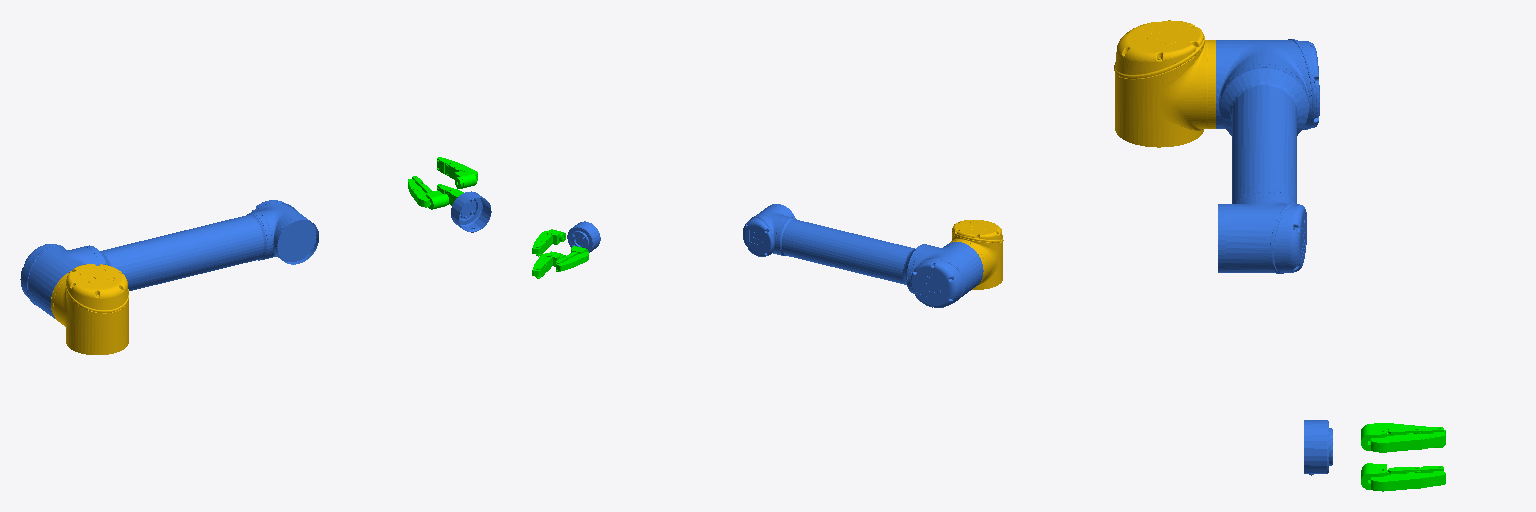
The robot description file, URDF, robot "ur10e+3fGripper":
<?xml version="1.0" ?>
<robot name="ur10e+3fGripper">
	<link name="ur10e">
		<inertial>
			<origin rpy="0.00000 -0.00000 0" xyz="0 0 0"/>
			<mass value="0.00000"/>
			<inertia ixx="0.00000" ixy="0" ixz="0" iyy="0.00000" iyz="0" izz="0.00000"/>
		</inertial>
		<visual>
			<origin rpy="0.00000 0.00000 -1.64061" xyz="0.00000 0.00000 0.00000"/>
			<geometry>
				<mesh filename="environments/PyBullet/environment/stl_files/ur10e/visual/base.stl" scale="1.00000 1.00000 1.00000"/>
			</geometry>
			<material name="mat_-1_0">
				<color rgba="0.23438 0.72656 0.32812 1.00000" />
			</material>
		</visual>
		<collision>
			<origin rpy="0.00000 0.00000 -1.64061" xyz="0.00000 0.00000 0.00000"/>
			<geometry>
				<mesh filename="environments/PyBullet/environment/stl_files/ur10e/collision/base.stl" scale="1.00000 1.00000 1.00000"/>
			</geometry>
		</collision>
	</link>
	
	<link name="base_link">
		<inertial>
			<origin rpy="0.00000 -0.00000 0.00000" xyz="0.00000 0.00000 0.00000"/>
			<mass value="7.36900"/>
			<inertia ixx="0.08131" ixy="0" ixz="0" iyy="0.07580" iyz="0" izz="0.07434"/>
		</inertial>
		<visual>
			<origin rpy="0.00000 -0.00000 0.00000" xyz="0.00000 0.00000 0.00000"/>
			<geometry>
				<mesh filename="environments/PyBullet/environment/stl_files/ur10e/visual/shoulder.stl" scale="1.00000 1.00000 1.00000"/>
			</geometry>
			<material name="mat_1_0">
				<color rgba="0.95312 0.75781 0.05078 1.00000" />
			</material>
		</visual>
		<collision>
			<origin rpy="0.00000 -0.00000 0.00000" xyz="0.00000 0.00000 0.00000"/>
			<geometry>
				<mesh filename="environments/PyBullet/environment/stl_files/ur10e/collision/shoulder.stl" scale="1.00000 1.00000 1.00000"/>
			</geometry>
		</collision>
	</link>
	
	<link name="shoulder_link">
		<inertial>
			<origin rpy="0.00000 -0.00000 0.00000" xyz="0.00000 0.00000 0.00000"/>
			<mass value="13.05100"/>
			<inertia ixx="0.82752" ixy="0" ixz="0" iyy="0.81574" iyz="0" izz="0.13368"/>
		</inertial>
		<visual>
			<origin rpy="0.00000 -0.00000 0.00000" xyz="0.00000 0.00000 0.00000"/>
			<geometry>
				<mesh filename="environments/PyBullet/environment/stl_files/ur10e/visual/upperarm.stl" scale="1.00000 1.00000 1.00000"/>
			</geometry>
			<material name="mat_3_0">
				<color rgba="0.28125 0.51953 0.92578 1.00000" />
			</material>
		</visual>
		<collision>
			<origin rpy="0.00000 -0.00000 0.00000" xyz="0.00000 0.00000 0.00000"/>
			<geometry>
				<mesh filename="environments/PyBullet/environment/stl_files/ur10e/collision/upperarm.stl" scale="1.00000 1.00000 1.00000"/>
			</geometry>
		</collision>
	</link>
	
	<link name="elbow_link">
		<inertial>
			<origin rpy="0.00000 -0.00000 0.00000" xyz="0.00000 0.00000 0.00000"/>
			<mass value="3.98900"/>
			<inertia ixx="0.20671" ixy="0" ixz="0" iyy="0.20550" iyz="0" izz="0.02780"/>
		</inertial>
		<visual>
			<origin rpy="0.00000 -0.00000 0.00000" xyz="0.00000 0.00000 0.00000"/>
			<geometry>
				<mesh filename="environments/PyBullet/environment/stl_files/ur10e/visual/forearm.stl" scale="1.00000 1.00000 1.00000"/>
			</geometry>
			<material name="mat_5_0">
				<color rgba="0.95312 0.75781 0.05078 1.00000" />
			</material>
		</visual>
		<collision>
			<origin rpy="0.00000 -0.00000 0.00000" xyz="0.00000 0.00000 0.00000"/>
			<geometry>
				<mesh filename="environments/PyBullet/environment/stl_files/ur10e/collision/forearm.stl" scale="1.00000 1.00000 1.00000"/>
			</geometry>
		</collision>
	</link>
	
	<link name="wrist_1_link">
		<inertial>
			<origin rpy="0.00000 -1.57080 1.57080" xyz="0.00000 0.00000 0.00000"/>
			<mass value="2.10000"/>
			<inertia ixx="0.01224" ixy="0" ixz="0" iyy="0.01425" iyz="0" izz="0.01285"/>
		</inertial>
		<visual>
			<origin rpy="0.00000 -0.00000 0.00000" xyz="0.00000 0.00000 0.00000"/>
			<geometry>
				<mesh filename="environments/PyBullet/environment/stl_files/ur10e/visual/wrist1.stl" scale="1.00000 1.00000 1.00000"/>
			</geometry>
			<material name="mat_7_0">
				<color rgba="0.28125 0.51953 0.92578 1.00000" />
			</material>
		</visual>
		<collision>
			<origin rpy="0.00000 -0.00000 0.00000" xyz="0.00000 0.00000 0.00000"/>
			<geometry>
				<mesh filename="environments/PyBullet/environment/stl_files/ur10e/collision/wrist1.stl" scale="1.00000 1.00000 1.00000"/>
			</geometry>
		</collision>
	</link>
	
	<link name="wrist_2_link">
		<inertial>
			<origin rpy="0.00000 -1.57080 1.57080" xyz="0.00000 0.00000 0.00000"/>
			<mass value="1.98000"/>
			<inertia ixx="0.01218" ixy="0" ixz="0" iyy="0.01252" iyz="0" izz="0.01057"/>
		</inertial>
		<visual>
			<origin rpy="0.00000 -0.00000 0.00000" xyz="0.00000 0.00000 0.00000"/>
			<geometry>
				<mesh filename="environments/PyBullet/environment/stl_files/ur10e/visual/wrist2.stl" scale="1.00000 1.00000 1.00000"/>
			</geometry>
			<material name="mat_9_0">
				<color rgba="0.95312 0.75781 0.05078 1.00000" />
			</material>
		</visual>
		<collision>
			<origin rpy="0.00000 -0.00000 0.00000" xyz="0.00000 0.00000 0.00000"/>
			<geometry>
				<mesh filename="environments/PyBullet/environment/stl_files/ur10e/collision/wrist2.stl" scale="1.00000 1.00000 1.00000"/>
			</geometry>
		</collision>
	</link>
	
	<link name="wrist_3_link">
		<inertial>
			<origin rpy="0.00000 -1.57080 1.57080" xyz="0.00000 0.00000 0.00000"/>
			<mass value="0.18790"/>
			<inertia ixx="0.00073" ixy="0" ixz="0" iyy="0.00077" iyz="0" izz="0.00096"/>
		</inertial>
		<visual>
			<origin rpy="0.00000 -0.00000 0.00000" xyz="0.00000 0.00000 0.00000"/>
			<geometry>
				<mesh filename="environments/PyBullet/environment/stl_files/ur10e/visual/wrist3.stl" scale="1.00000 1.00000 1.00000"/>
			</geometry>
			<material name="mat_11_0">
				<color rgba="0.28125 0.51953 0.92578 1.00000" />
			</material>
		</visual>
		<collision>
			<origin rpy="0.00000 -0.00000 0.00000" xyz="0.00000 0.00000 0.00000"/>
			<geometry>
				<mesh filename="environments/PyBullet/environment/stl_files/ur10e/collision/wrist3.stl" scale="1.00000 1.00000 1.00000"/>
			</geometry>
		</collision>
	</link>
	<link name="tool0">
		<inertial>
			<origin rpy="0 0.00000 0.00000" xyz="0.00000 0 0.00000"/>
			<mass value="0.00000"/>
			<inertia ixx="0.00000" ixy="0" ixz="0" iyy="0.00000" iyz="0" izz="0.00000"/>
		</inertial>
	</link>

	<!-- Robot joints -->

	<joint name="shoulder_pan_joint" type="continuous">
		<parent link="ur10e"/>
		<child link="base_link"/>
		<dynamics damping="1.0" friction="0.0001"/>
		<origin rpy="0.00000 -0.00000 0.00000" xyz="0.00000 0.00000 0.18100"/>
		<axis xyz="0.00000 0.00000 1.00000"/>
		<limit effort="330" lower="-6.28318530718" upper="6.28318530718" velocity="2.0943951"/>
	</joint>

	<joint name="shoulder_lift_joint" type="continuous">
		<parent link="base_link"/>
		<child link="shoulder_link"/>
		<dynamics damping="1.0" friction="0.0001"/>
		<origin rpy="0 1.5708 0" xyz="0.00000 0.17600 0.00000"/>
		<axis xyz="0.00000 1.00000 0.00000"/>
		<limit effort="330" lower="-6.28318530718" upper="6.28318530718" velocity="2.0943951"/>
	</joint>

	<joint name="elbow_joint" type="continuous">
		<parent link="shoulder_link"/>
		<child link="elbow_link"/>
		<dynamics damping="1.0" friction="0.0001"/>
		<origin rpy="0.00000 -0.00000 0.00000" xyz="0.00000 -0.13700 0.61300"/>
		<axis xyz="0.00000 1.00000 0.00000"/>
		<limit effort="150" lower="-3.1416" upper="3.1416" velocity="3.14159265359"/>
	</joint>

	<joint name="wrist_1_joint" type="continuous">
		<parent link="elbow_link"/>
		<child link="wrist_1_link"/>
		<dynamics damping="1.0" friction="0.0001"/>
		<origin rpy="0.00000 1.5708 0.00000" xyz="0.00000 0.00000 0.57100"/>
		<axis xyz="0.00000 1.00000 0.00000"/>
		<limit effort="56" lower="-6.28318530718" upper="6.28318530718" velocity="3.14159265359"/>
	</joint>

	<joint name="wrist_2_joint" type="continuous">
		<parent link="wrist_1_link"/>
		<child link="wrist_2_link"/>
		<dynamics damping="1.0" friction="0.0001"/>
		<origin rpy="0.00000 -0.00000 0.00000" xyz="0.00000 0.13500 0.00000"/>
		<axis xyz="0.00000 0.00000 1.00000"/>
		<limit effort="56" lower="-6.28318530718" upper="6.28318530718" velocity="3.14159265359"/>
	</joint>

	<joint name="wrist_3_joint" type="continuous">
		<parent link="wrist_2_link"/>
		<child link="wrist_3_link"/>
		<dynamics damping="1.0" friction="0.0001"/>
		<origin rpy="0.00000 -0.00000 0.00000" xyz="0.00000 0.00000 0.12000"/>
		<axis xyz="0.00000 1.00000 0.00000"/>
		<limit effort="56" lower="-6.28318530718" upper="6.28318530718" velocity="3.14159265359"/>
	</joint>

	<joint name="jointfix_13_11" type="fixed">
		<parent link="wrist_3_link"/>
		<child link="tool0"/>
		<dynamics damping="1.0" friction="0.0001"/>
		<origin rpy="0 0 0" xyz="0 0.117 0"/>
	</joint>

	<!-- Gripper -->
	<link name="finger_1_link_0">
		<visual>
		  <origin rpy="0 0 0" xyz="0.020 0 0"/>
		  <geometry>
			<mesh filename="environments/PyBullet/environment/stl_files/robotiq_3f/visual/link_0.stl"/>
		  </geometry>
		  <material name="green">
			<color rgba="0 1 0 1"/>
		  </material>
		</visual>
		<collision>
		  <origin rpy="0 3.1416 -1.57" xyz="-0.0455 0.0414 0.036"/>
		  <geometry>
			<mesh filename="environments/PyBullet/environment/stl_files/robotiq_3f/collision/link_0.stl"/>
		  </geometry>
		  <material name="yellow">
			<color rgba="0 1 1 1"/>
		  </material>
		</collision>
		<inertial>
		  <origin rpy="0 0 0" xyz="0 0 0"/>
		  <mass value="0.05"/>
		  <inertia ixx="0.01" ixy="-0.00002" ixz="0.00001" iyy="0.0008" iyz="0" izz="0.001"/>
		</inertial>
	  </link>
	  <link name="finger_1_link_1">
		<visual>
		  <origin rpy="0 0 -0.52" xyz="0.050 -.028 0"/>
		  <geometry>
			<mesh filename="environments/PyBullet/environment/stl_files/robotiq_3f/visual/link_1.stl"/>
		  </geometry>
		  <material name="green"/>
		</visual>
		<collision>
		  <origin rpy="0 0 -0.52" xyz="0.050 -.028 0"/>
		  <geometry>
			<mesh filename="environments/PyBullet/environment/stl_files/robotiq_3f/collision/link_1.stl"/>
		  </geometry>
		  <material name="yellow"/>
		</collision>
		<inertial>
		  <origin rpy="0 0 0" xyz="0 0 0"/>
		  <mass value="0.15"/>
		  <inertia ixx="0.001859" ixy="-0.000376" ixz="0.000028" iyy="0.012756" iyz="0" izz="0.0024"/>
		</inertial>
	  </link>
	  <link name="finger_1_link_2">
		<!--
				NOTE: This link has an offset in the z-direction based on the models that were
				used to generate grap-it poses.  With the offset below the model appears visually
				correct, but it is suspect.
				-->
		<visual>
		  <origin rpy="0 0 0" xyz="0.039 0 0.0075"/>
		  <geometry>
			<mesh filename="environments/PyBullet/environment/stl_files/robotiq_3f/visual/link_2.stl"/>
		  </geometry>
		  <material name="green"/>
		</visual>
		<collision>
		  <origin rpy="0 0 0" xyz="0.039 0 0.0075"/>
		  <geometry>
			<mesh filename="environments/PyBullet/environment/stl_files/robotiq_3f/collision/link_2.stl"/>
		  </geometry>
		  <material name="yellow"/>
		</collision>
		<inertial>
		  <origin rpy="0 0 0" xyz="0 0 0"/>
		  <mass value="0.15"/>
		  <inertia ixx="0.001859" ixy="-0.000376" ixz="0.000028" iyy="0.012756" iyz="0" izz="0.0024"/>
		</inertial>
	  </link>
	  <link name="finger_1_link_3">
		<visual>
		  <origin rpy="0 0 0.52" xyz="0 0 0"/>
		  <geometry>
			<mesh filename="environments/PyBullet/environment/stl_files/robotiq_3f/visual/link_3.stl"/>
		  </geometry>
		  <material name="green"/>
		</visual>
		<collision>
      <origin xyz="0.0180036 0.00913251 0" rpy="0 0 0.5202588"/>
      <geometry>
        <box size="0.035 0.018 0.032"/>
      </geometry>
    </collision>
		<inertial>
		  <origin rpy="0 0 0" xyz="0 0 0"/>
		  <mass value="0.05"/>
		  <inertia ixx="0.001239" ixy="-0.000251" ixz="0.000019" iyy="0.00085" iyz="0" izz="0.001632"/>
		</inertial>
	  </link>
	  

	  <link name="finger_2_link_0">
		<visual>
		  <origin rpy="0 0 0" xyz="0.020 0 0"/>
		  <geometry>
			<mesh filename="environments/PyBullet/environment/stl_files/robotiq_3f/visual/link_0.stl"/>
		  </geometry>
		  <material name="green">
			<color rgba="0 1 0 1"/>
		  </material>
		</visual>
		<collision>
		  <origin rpy="0 3.1416 -1.57" xyz="-0.0455 0.0414 0.036"/>
		  <geometry>
			<mesh filename="environments/PyBullet/environment/stl_files/robotiq_3f/collision/link_0.stl"/>
		  </geometry>
		  <material name="yellow">
			<color rgba="0 1 1 1"/>
		  </material>
		</collision>
		<inertial>
		  <origin rpy="0 0 0" xyz="0 0 0"/>
		  <mass value="0.05"/>
		  <inertia ixx="0.01" ixy="-0.00002" ixz="0.00001" iyy="0.0008" iyz="0" izz="0.001"/>
		</inertial>
	  </link>
	  <link name="finger_2_link_1">
		<visual>
		  <origin rpy="0 0 -0.52" xyz="0.050 -.028 0"/>
		  <geometry>
			<mesh filename="environments/PyBullet/environment/stl_files/robotiq_3f/visual/link_1.stl"/>
		  </geometry>
		  <material name="green"/>
		</visual>
		<collision>
		  <origin rpy="0 0 -0.52" xyz="0.050 -.028 0"/>
		  <geometry>
			<mesh filename="environments/PyBullet/environment/stl_files/robotiq_3f/collision/link_1.stl"/>
		  </geometry>
		  <material name="yellow"/>
		</collision>
		<inertial>
		  <origin rpy="0 0 0" xyz="0 0 0"/>
		  <mass value="0.15"/>
		  <inertia ixx="0.001859" ixy="-0.000376" ixz="0.000028" iyy="0.012756" iyz="0" izz="0.0024"/>
		</inertial>
	  </link>
	  <link name="finger_2_link_2">
		<!--
				NOTE: This link has an offset in the z-direction based on the models that were
				used to generate grap-it poses.  With the offset below the model appears visually
				correct, but it is suspect.
				-->
		<visual>
		  <origin rpy="0 0 0" xyz="0.039 0 0.0075"/>
		  <geometry>
			<mesh filename="environments/PyBullet/environment/stl_files/robotiq_3f/visual/link_2.stl"/>
		  </geometry>
		  <material name="green"/>
		</visual>
		<collision>
		  <origin rpy="0 0 0" xyz="0.039 0 0.0075"/>
		  <geometry>
			<mesh filename="environments/PyBullet/environment/stl_files/robotiq_3f/collision/link_2.stl"/>
		  </geometry>
		  <material name="yellow"/>
		</collision>
		<inertial>
		  <origin rpy="0 0 0" xyz="0 0 0"/>
		  <mass value="0.15"/>
		  <inertia ixx="0.001859" ixy="-0.000376" ixz="0.000028" iyy="0.012756" iyz="0" izz="0.0024"/>
		</inertial>
	  </link>
	  <link name="finger_2_link_3">
		<visual>
		  <origin rpy="0 0 0.52" xyz="0 0 0"/>
		  <geometry>
			<mesh filename="environments/PyBullet/environment/stl_files/robotiq_3f/visual/link_3.stl"/>
		  </geometry>
		  <material name="green"/>
		</visual>
		<collision>
      <origin xyz="0.0180036 0.00913251 0" rpy="0 0 0.5202588"/>
      <geometry>
        <box size="0.035 0.018 0.032"/>
      </geometry>
    </collision>
		<inertial>
		  <origin rpy="0 0 0" xyz="0 0 0"/>
		  <mass value="0.05"/>
		  <inertia ixx="0.001239" ixy="-0.000251" ixz="0.000019" iyy="0.00085" iyz="0" izz="0.001632"/>
		</inertial>
	  </link>
	  

	  <link name="finger_middle_link_0">
		<visual>
		  <origin rpy="0 0 0" xyz="0.020 0 0"/>
		  <geometry>
			<mesh filename="environments/PyBullet/environment/stl_files/robotiq_3f/visual/link_0.stl"/>
		  </geometry>
		  <material name="green">
			<color rgba="0 1 0 1"/>
		  </material>
		</visual>
		<collision>
		  <origin rpy="0 3.1416 -1.57" xyz="-0.0455 0.0414 0.036"/>
		  <geometry>
			<mesh filename="environments/PyBullet/environment/stl_files/robotiq_3f/collision/link_0.stl"/>
		  </geometry>
		  <material name="yellow">
			<color rgba="0 1 1 1"/>
		  </material>
		</collision>
		<inertial>
		  <origin rpy="0 0 0" xyz="0 0 0"/>
		  <mass value="0.05"/>
		  <inertia ixx="0.01" ixy="-0.00002" ixz="0.00001" iyy="0.0008" iyz="0" izz="0.001"/>
		</inertial>
	  </link>
	  <link name="finger_middle_link_1">
		<visual>
		  <origin rpy="0 0 -0.52" xyz="0.050 -.028 0"/>
		  <geometry>
			<mesh filename="environments/PyBullet/environment/stl_files/robotiq_3f/visual/link_1.stl"/>
		  </geometry>
		  <material name="green"/>
		</visual>
		<collision>
		  <origin rpy="0 0 -0.52" xyz="0.050 -.028 0"/>
		  <geometry>
			<mesh filename="environments/PyBullet/environment/stl_files/robotiq_3f/collision/link_1.stl"/>
		  </geometry>
		  <material name="yellow"/>
		</collision>
		<inertial>
		  <origin rpy="0 0 0" xyz="0 0 0"/>
		  <mass value="0.15"/>
		  <inertia ixx="0.001859" ixy="-0.000376" ixz="0.000028" iyy="0.012756" iyz="0" izz="0.0024"/>
		</inertial>
	  </link>
	  <link name="finger_middle_link_2">
		<!--
				NOTE: This link has an offset in the z-direction based on the models that were
				used to generate grap-it poses.  With the offset below the model appears visually
				correct, but it is suspect.
				-->
		<visual>
		  <origin rpy="0 0 0" xyz="0.039 0 0.0075"/>
		  <geometry>
			<mesh filename="environments/PyBullet/environment/stl_files/robotiq_3f/visual/link_2.stl"/>
		  </geometry>
		  <material name="green"/>
		</visual>
		<collision>
		  <origin rpy="0 0 0" xyz="0.039 0 0.0075"/>
		  <geometry>
			<mesh filename="environments/PyBullet/environment/stl_files/robotiq_3f/collision/link_2.stl"/>
		  </geometry>
		  <material name="yellow"/>
		</collision>
		<inertial>
		  <origin rpy="0 0 0" xyz="0 0 0"/>
		  <mass value="0.15"/>
		  <inertia ixx="0.001859" ixy="-0.000376" ixz="0.000028" iyy="0.012756" iyz="0" izz="0.0024"/>
		</inertial>
	  </link>
	  <link name="finger_middle_link_3">
		<visual>
		  <origin rpy="0 0 0.52" xyz="0 0 0"/>
		  <geometry>
			<mesh filename="environments/PyBullet/environment/stl_files/robotiq_3f/visual/link_3.stl"/>
		  </geometry>
		  <material name="green"/>
		</visual>
		<collision>
      <origin xyz="0.0180036 0.00913251 0" rpy="0 0 0.5202588"/>
      <geometry>
        <box size="0.035 0.018 0.032"/>
      </geometry>
    </collision>
		<inertial>
		  <origin rpy="0 0 0" xyz="0 0 0"/>
		  <mass value="0.05"/>
		  <inertia ixx="0.001239" ixy="-0.000251" ixz="0.000019" iyy="0.00085" iyz="0" izz="0.001632"/>
		</inertial>
	  </link>
	  
	  <link name="palm">
			<visual>
				<geometry>
				<mesh filename="environments/PyBullet/environment/stl_files/robotiq_3f/visual/palm.stl"/>
				</geometry>
				<material name="green">
				<color rgba="0 1 0 1"/>
				</material>
			</visual>
			<collision>
				<geometry>
				<mesh filename="environments/PyBullet/environment/stl_files/robotiq_3f/collision/palm.stl"/>
				</geometry>
				<material name="yellow">
				<color rgba="0 1 1 1"/>
				</material>
			</collision>	  
			<inertial>
				<origin rpy="0 0 0" xyz="0 0 0"/>
				<mass value="1.3"/>
				<inertia ixx="0.006012" ixy="0.000079" ixz="-0.00024" iyy="0.012892" iyz="0" izz="0.002435"/>
			</inertial>
		</link>
	  
	<joint name="palm_finger_1_joint" type="revolute">
		<parent link="palm"/>
		<child link="finger_1_link_0"/>
		<axis xyz="0 1 0"/>
		<origin rpy="0 3.1416 -1.57" xyz="-0.0455 0.0214 0.036"/>
		<limit effort="100" lower="-0.1784" upper="0.192" velocity="2"/>
	</joint>
	<joint name="finger_1_joint_1" type="revolute">
		<parent link="finger_1_link_0"/>
		<child link="finger_1_link_1"/>
		<axis xyz="0 0 1"/>
		<origin rpy="0 0 0" xyz="0.020 0 0"/>
		<limit effort="4" lower="0.0495" upper="1.2218" velocity="4"/>
	</joint>
		<joint name="finger_1_joint_2" type="revolute">
		<parent link="finger_1_link_1"/>
		<child link="finger_1_link_2"/>
		<axis xyz="0 0 1"/>
		<origin rpy="0 0 -0.52" xyz="0.050 -.028 0"/>
		<limit effort="100" lower="0.0" upper="1.5708" velocity="2"/>
	</joint>
		<joint name="finger_1_joint_3" type="revolute">
		<parent link="finger_1_link_2"/>
		<child link="finger_1_link_3"/>
		<axis xyz="0 0 1"/>
		<origin rpy="0 0 0" xyz="0.039 0 0"/>
		<limit effort="4" lower="-1.2217" upper="-0.0523" velocity="2"/>
	</joint>

	<joint name="palm_finger_2_joint" type="revolute">
		<parent link="palm"/>
		<child link="finger_2_link_0"/>
		<axis xyz="0 1 0"/>
		<origin rpy="0 3.1416 -1.57" xyz="-0.0455 0.0214 -0.036"/>
		<limit effort="100" lower="-0.192" upper="0.1784" velocity="2"/>
	</joint>
	<joint name="finger_2_joint_1" type="revolute">
		<parent link="finger_2_link_0"/>
		<child link="finger_2_link_1"/>
		<axis xyz="0 0 1"/>
		<origin rpy="0 0 0" xyz="0.020 0 0"/>
		<limit effort="4" lower="0.0495" upper="1.2218" velocity="2"/>
	</joint>
	<joint name="finger_2_joint_2" type="revolute">
		<parent link="finger_2_link_1"/>
		<child link="finger_2_link_2"/>
		<axis xyz="0 0 1"/>
		<origin rpy="0 0 -0.52" xyz="0.050 -.028 0"/>
		<limit effort="100" lower="0.0" upper="1.5708" velocity="2"/>
	</joint>
	<joint name="finger_2_joint_3" type="revolute">
		<parent link="finger_2_link_2"/>
		<child link="finger_2_link_3"/>
		<axis xyz="0 0 1"/>
		<origin rpy="0 0 0" xyz="0.039 0 0"/>
		<limit effort="4" lower="-1.2217" upper="-0.0523" velocity="2"/>
	</joint>

	<joint name="finger_middle_joint_1" type="revolute">
		<parent link="finger_middle_link_0"/>
		<child link="finger_middle_link_1"/>
		<axis xyz="0 0 1"/>
		<origin rpy="0 0 0" xyz="0.020 0 0"/>
		<limit effort="8" lower="0.0495" upper="1.2218" velocity="2"/>
	</joint>
	<joint name="finger_middle_joint_2" type="revolute">
		<parent link="finger_middle_link_1"/>
		<child link="finger_middle_link_2"/>
		<axis xyz="0 0 1"/>
		<origin rpy="0 0 -0.52" xyz="0.050 -.028 0"/>
		<limit effort="100" lower="0.0" upper="1.5708" velocity="2"/>
	</joint>
	<joint name="finger_middle_joint_3" type="revolute">
		<parent link="finger_middle_link_2"/>
		<child link="finger_middle_link_3"/>
		<axis xyz="0 0 1"/>
		<origin rpy="0 0 0" xyz="0.039 0 0"/>
		<limit effort="8" lower="-1.2217" upper="-0.0523" velocity="2"/>
	</joint>
	
	<joint name="palm_finger_middle_joint" type="fixed">
		<parent link="palm"/>
		<child link="finger_middle_link_0"/>
		<axis xyz="0 0 1"/>
		<origin rpy="0 0 1.57" xyz="0.0455 0.0214 0"/>
	</joint>

	<joint name="robot_palm" type="fixed">
		<parent link="tool0"/>
		<child link="palm"/>
		<origin rpy="0 0 0" xyz="0 0.0423 0"/>
	</joint>

</robot>

--- What the picture shows (computed from the rendered views, not written in the file) ---
3 views of the same robot in one strip: view 1: azimuth 30°, elevation 25°; view 2: azimuth 150°, elevation 25°; view 3: azimuth 270°, elevation 25° (orthographic).
Model ur10e+3fGripper with 21 links and 20 joints (11 revolute, 6 continuous, 3 fixed), rooted at ur10e, posed all joints at 0 but 6 set to mid-range because 0 is outside their limits (finger_1_joint_1 = 0.6357, finger_1_joint_3 = -0.637, finger_2_joint_1 = 0.6357, finger_2_joint_3 = -0.637, finger_middle_joint_1 = 0.6357, finger_middle_joint_3 = -0.637).
Visible links, largest first — view 1: shoulder_link, base_link, wrist_3_link; view 2: shoulder_link, base_link, wrist_3_link; view 3: shoulder_link, base_link, wrist_3_link, finger_2_link_1, finger_1_link_1.
Link boxes in pixels (x1,y1,x2,y2): shoulder_link: (20, 200, 318, 318); base_link: (51, 264, 128, 354); wrist_3_link: (451, 191, 491, 232); shoulder_link: (743, 204, 983, 307); base_link: (950, 220, 1003, 289); wrist_3_link: (567, 221, 600, 252); shoulder_link: (1216, 39, 1319, 273); base_link: (1114, 20, 1215, 147); wrist_3_link: (1304, 420, 1332, 475); finger_2_link_1: (1371, 428, 1431, 452); finger_1_link_1: (1371, 467, 1431, 491).
Bounding box of the posed robot: 1.34 × 0.5568 × 0.2658 m (x, y, z).
Meshes: 12 distinct files referenced, 12 mesh visuals loaded (6 binary STL); not drawn: 8 (reference not matched to a file when rendering).
